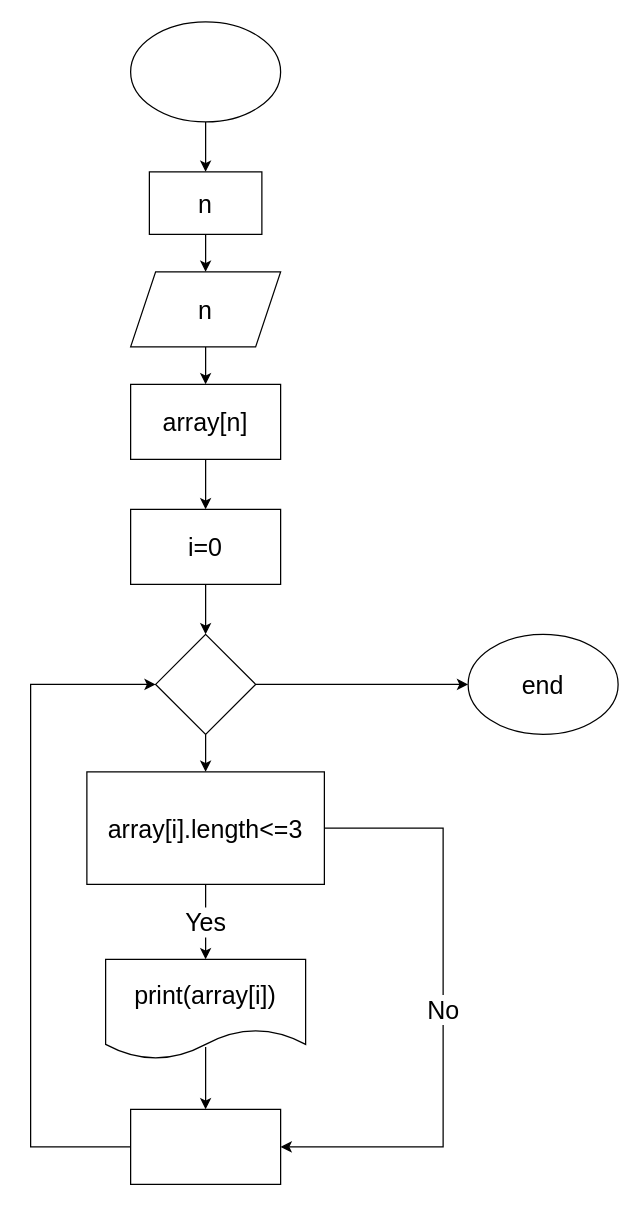
Some shapes in this 640 by 1206 pixel diagram are drawn without their labels. The shapes that lost their labels are listed below. From the top down, each one's centre as x and y in pixels, then its label:
At [205,71]: "start".
At [205,683]: "i<n".
At [205,1146]: "i=i+1".
